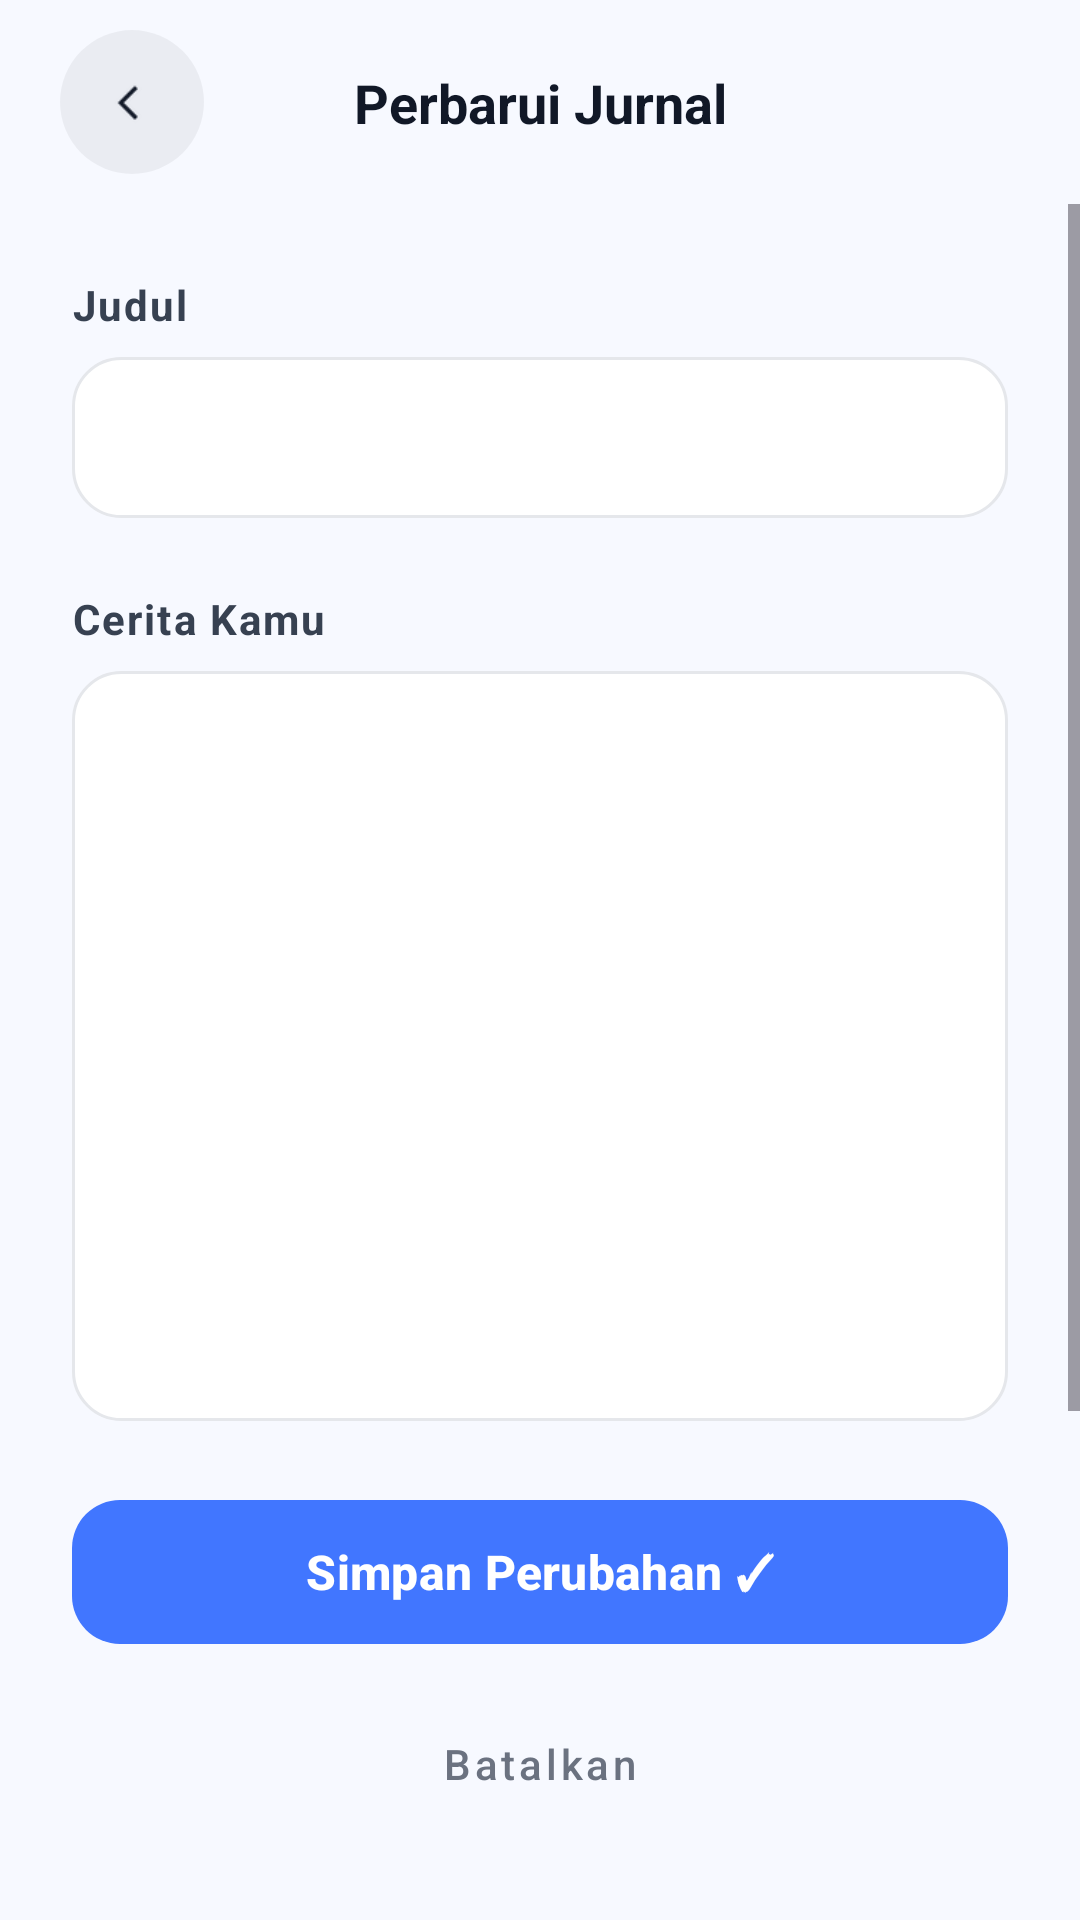

Named icons in this screenshot (1080w x 1920h) and their bounding boxes, detection(x1, y1, x2, y2):
Kembali: detection(60, 30, 204, 174)
